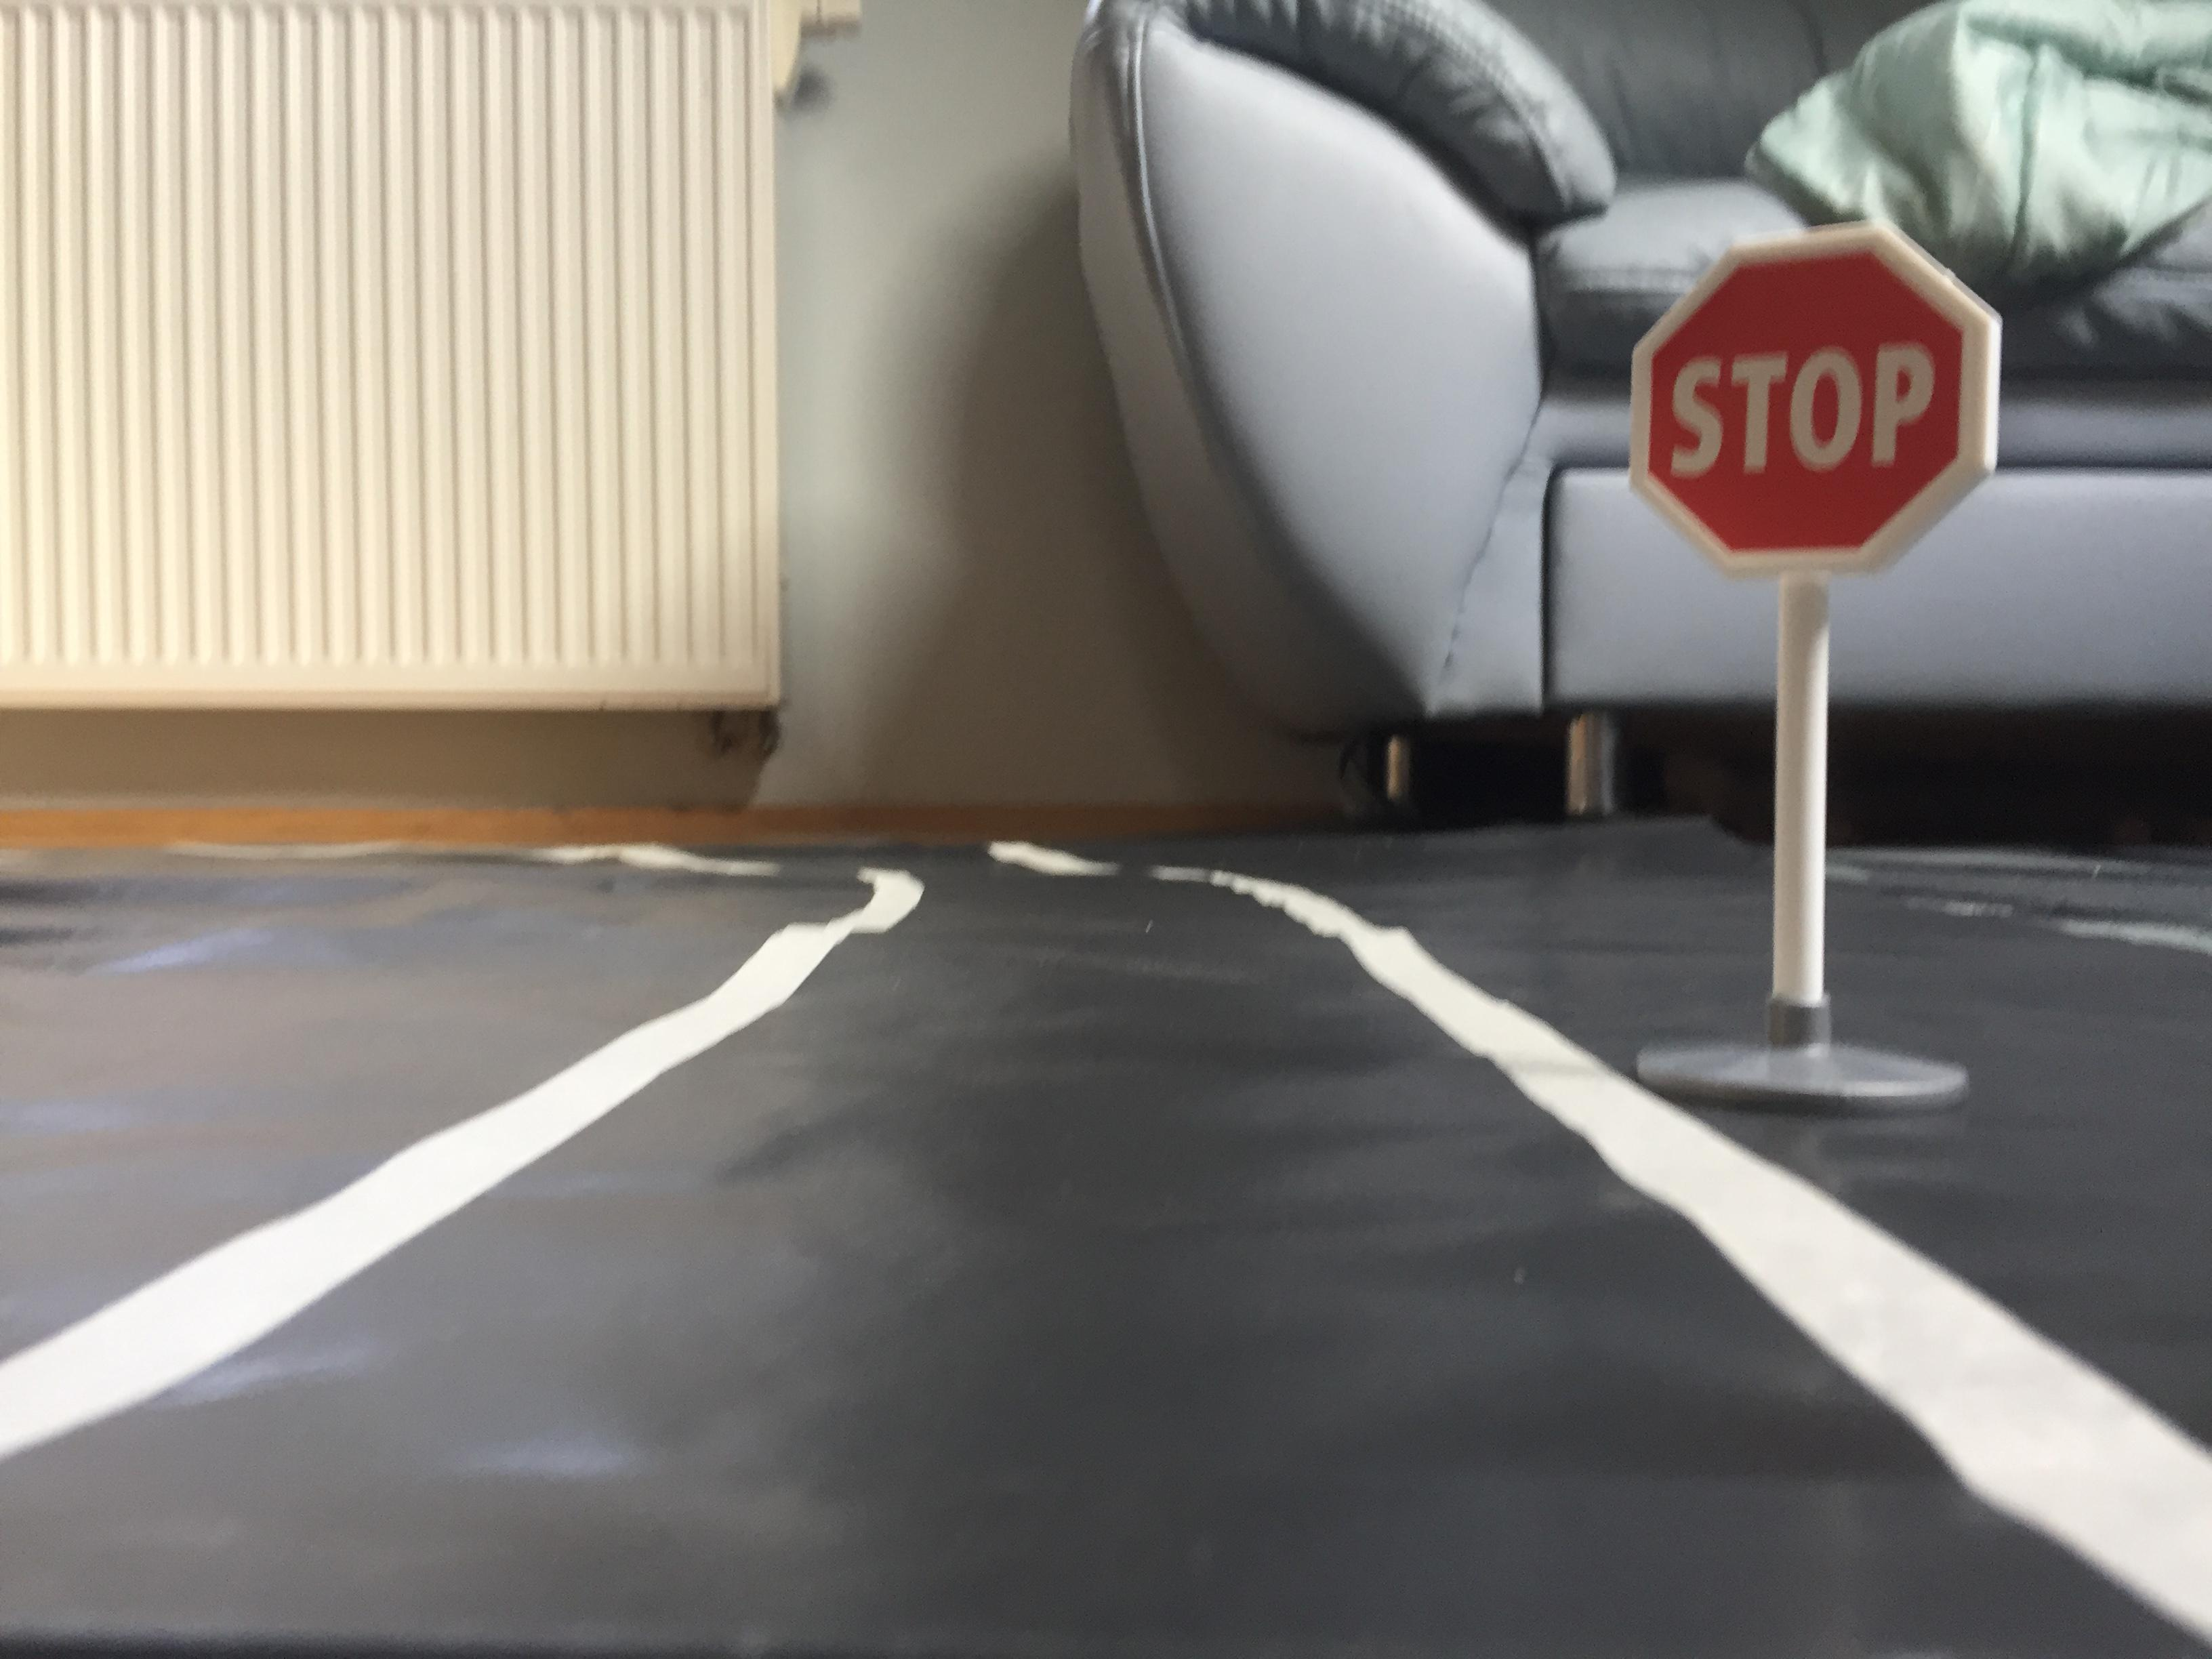stop: (1616, 202, 2012, 598)
